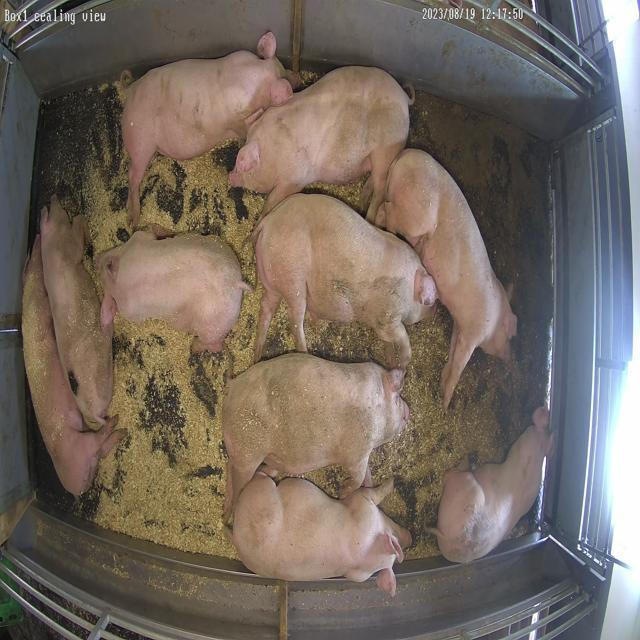Pig: (122, 32, 293, 224), (255, 194, 437, 368), (229, 67, 412, 216), (21, 239, 125, 496), (96, 231, 250, 352), (40, 195, 112, 430)
